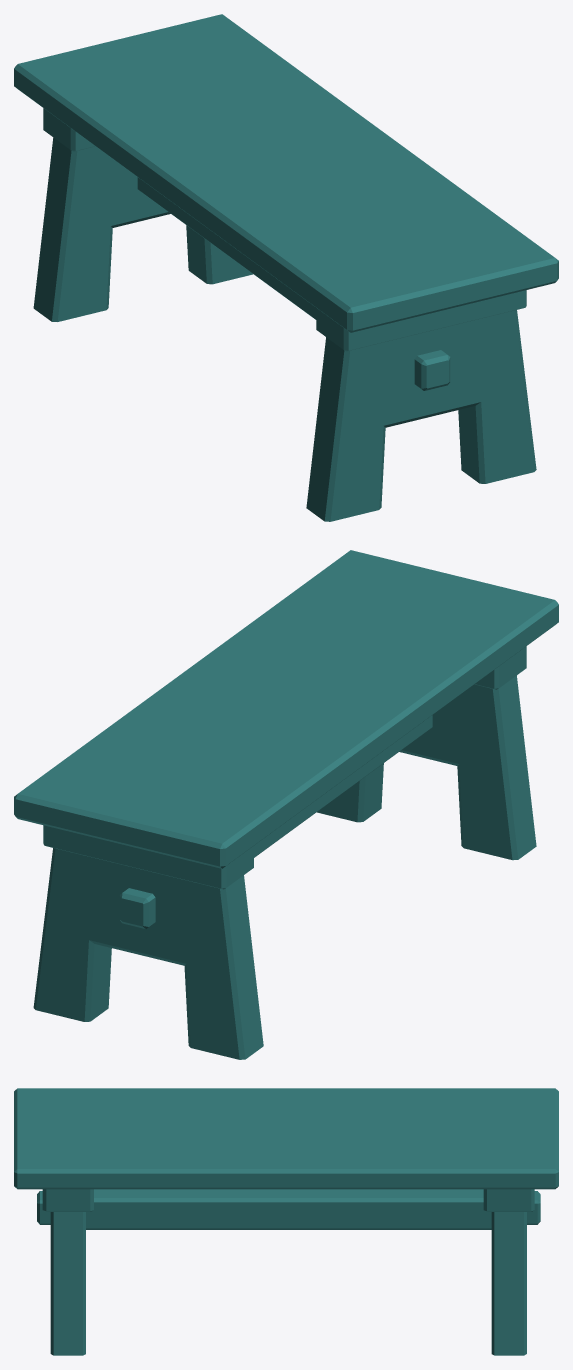
File: KitchenBench.fbx
The picture shows the model from 3 angles, top to bottom: view 1: azimuth 30°, elevation 25°; view 2: azimuth 150°, elevation 25°; view 3: azimuth 270°, elevation 25°; orthographic projection. The views are drawn at different scales.
Parts seen in each view (by area): view 1: Bench001; view 2: Bench001; view 3: Bench001.
Boxes of the visible parts, bbox=[...] form: Bench001: bbox=[14, 14, 558, 521]; Bench001: bbox=[14, 550, 558, 1059]; Bench001: bbox=[14, 1088, 558, 1355].
Bounding box in the file's own units: 43.53 × 45 × 120.
